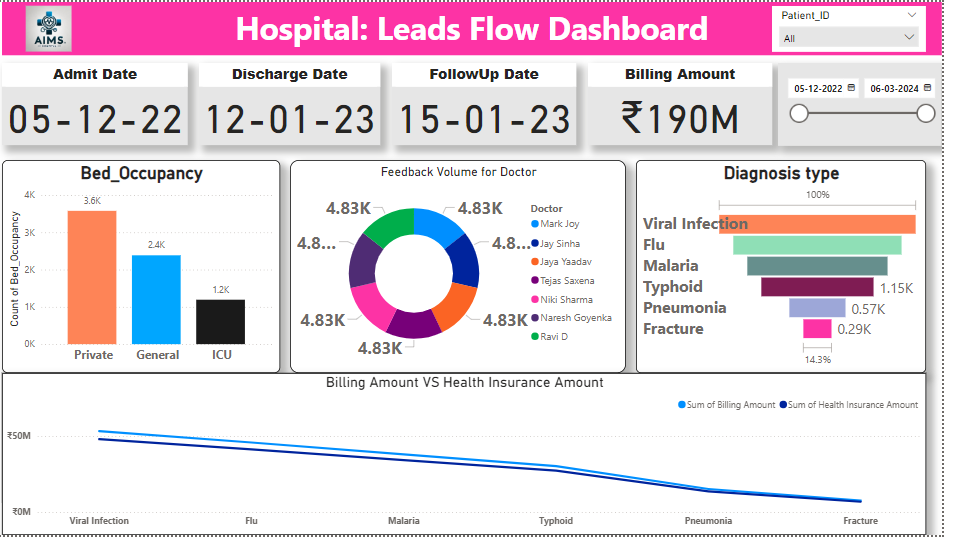

This screenshot's page, from the dashboard's own definition file:
{"tool":"powerbi","page":{"name":"Page 1","canvas":[1280,720],"ordinal":0},"visuals":[{"type":"textbox","box":[10.3,0,1269.7,72],"z":0},{"type":"slicer","fields":{"Values":["Sheet1.Patient_ID"]},"box":[1051.2,5.1,208.2,61.7],"z":1},{"type":"image","box":[10.8,0,125.7,71.6],"z":2},{"type":"card","title":"Admit Date","fields":{"Values":["Sheet1.Admit_Date"]},"box":[10.8,82.4,251.4,110.8],"z":3},{"type":"card","title":"Discharge Date","fields":{"Values":["Sheet1.Discharge_Date"]},"box":[277,82.4,244.6,110.8],"z":4},{"type":"card","title":"FollowUp Date","fields":{"Values":["Sheet1.Followup Date"]},"box":[537.8,82.4,248.6,110.8],"z":5},{"type":"card","title":"Billing Amount","fields":{"Values":["Sheet1.Billing Amount"]},"box":[802.7,82.4,248.6,110.8],"z":6},{"type":"slicer","fields":{"Values":["Sheet1.Admit_Date"]},"box":[1059.5,82.4,221,112],"z":7},{"type":"columnChart","title":"Bed_Occupancy","fields":{"Category":["Sheet1.Bed_Occupancy"],"Y":["Sheet1.Bed_Occupancy"]},"box":[10.8,213.5,375.7,287.8],"z":8},{"type":"donutChart","title":"Feedback Volume for Doctor","fields":{"Category":["Sheet1.Doctor"],"Y":["Sheet1.Feedback"]},"box":[400,213.5,454.1,287.8],"z":9},{"type":"funnel","title":"Diagnosis type","fields":{"Category":["Sheet1.Diagnosis"],"Y":["Sheet1.Diagnosis"]},"box":[867.6,213.5,391.9,287.8],"z":10},{"type":"lineChart","title":"Billing Amount VS Health Insurance Amount","fields":{"Category":["Sheet1.Diagnosis"],"Y":["Sheet1.Billing Amount","Sheet1.Health Insurance Amount"]},"box":[10.8,501.4,1248.6,218.9],"z":11}]}

Visuals, with their boxes in screenshot pixels (x1, y1, x2, y2), scaled from the page's 1280x720 canvas onto the 960x540 screenshot:
textbox: [x1=8, y1=0, x2=959, y2=54]
slicer - Sheet1.Patient_ID: [x1=788, y1=4, x2=945, y2=50]
image: [x1=8, y1=0, x2=102, y2=54]
"Admit Date" card: [x1=8, y1=62, x2=197, y2=145]
"Discharge Date" card: [x1=208, y1=62, x2=391, y2=145]
"FollowUp Date" card: [x1=403, y1=62, x2=590, y2=145]
"Billing Amount" card: [x1=602, y1=62, x2=788, y2=145]
slicer - Sheet1.Admit_Date: [x1=795, y1=62, x2=959, y2=146]
"Bed_Occupancy" columnChart: [x1=8, y1=160, x2=290, y2=376]
"Feedback Volume for Doctor" donutChart: [x1=300, y1=160, x2=641, y2=376]
"Diagnosis type" funnel: [x1=651, y1=160, x2=945, y2=376]
"Billing Amount VS Health Insurance Amount" lineChart: [x1=8, y1=376, x2=945, y2=539]
